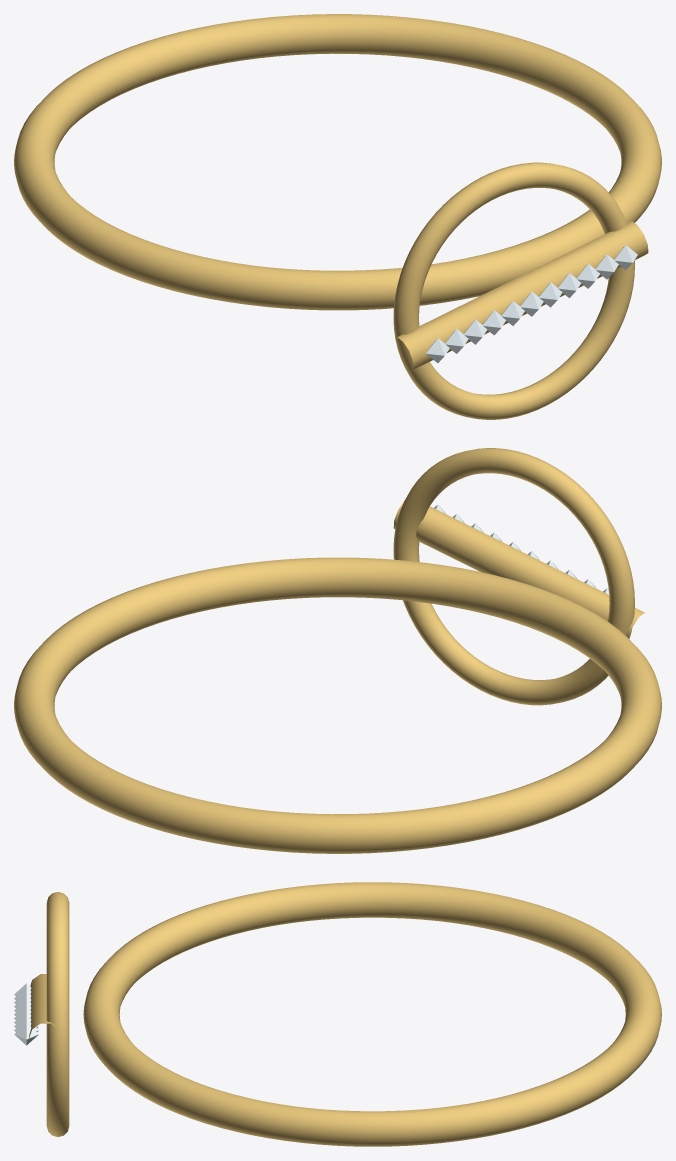
The model's file is orbit-prototype.glb.
3 renders of one model, top to bottom at view 1: azimuth 30°, elevation 25°; view 2: azimuth 150°, elevation 25°; view 3: azimuth 270°, elevation 25°, orthographic. The views are drawn at different scales.
Visible parts, largest first — view 1: metal (×3); view 2: metal (×3); view 3: metal (×3).
Part boxes in pixels (<box>): metal (×3): <box>14,14,661,419</box>; metal (×3): <box>14,448,661,853</box>; metal (×3): <box>29,882,661,1146</box>.
Size of the model in its own units: 2.39 by 1.01 by 2.68.
